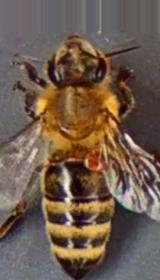varroa_mite: (74, 140, 108, 176)
